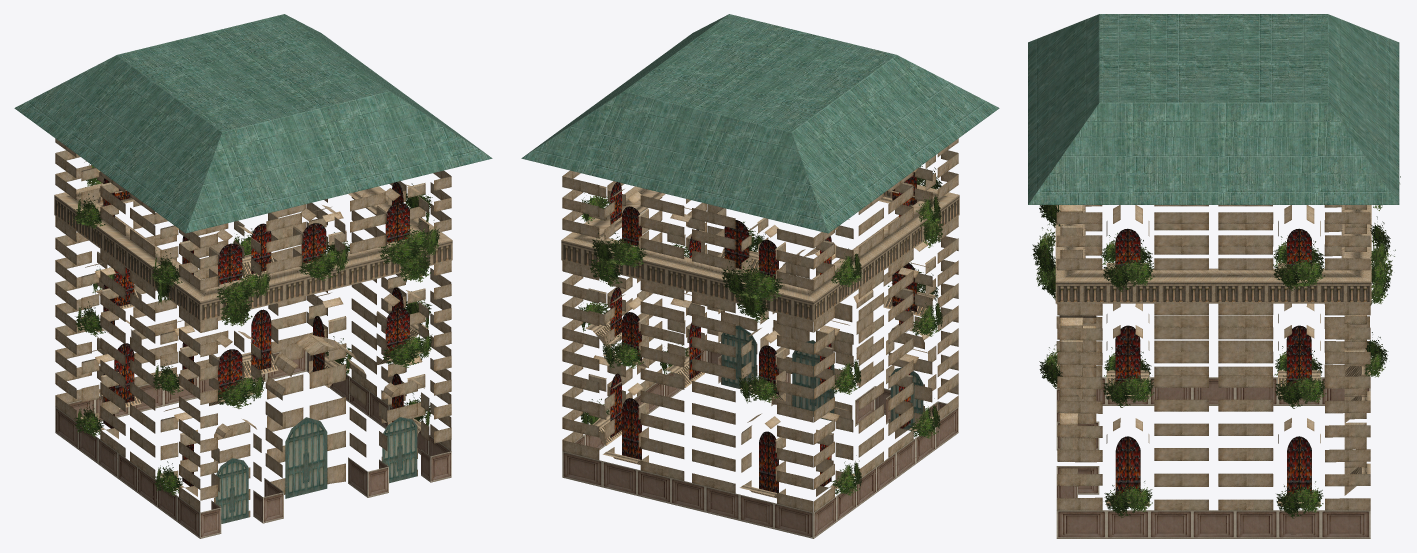
File: thm_nboo_thed_imprv_building_s06_l1.fbx
The picture shows the model from 3 angles, left to right: view 1: azimuth 30°, elevation 25°; view 2: azimuth 150°, elevation 25°; view 3: azimuth 270°, elevation 25°; orthographic projection. The views are drawn at different scales.
Visible parts, largest first — view 1: mesh_node; view 2: mesh_node; view 3: mesh_node.
Boxes of the visible parts, box(x1,y1,x2,y2) form: mesh_node: box(14, 14, 492, 538); mesh_node: box(521, 14, 999, 538); mesh_node: box(1028, 14, 1400, 538).
Bounding box in the file's own units: 16.83 × 19.99 × 16.4.
